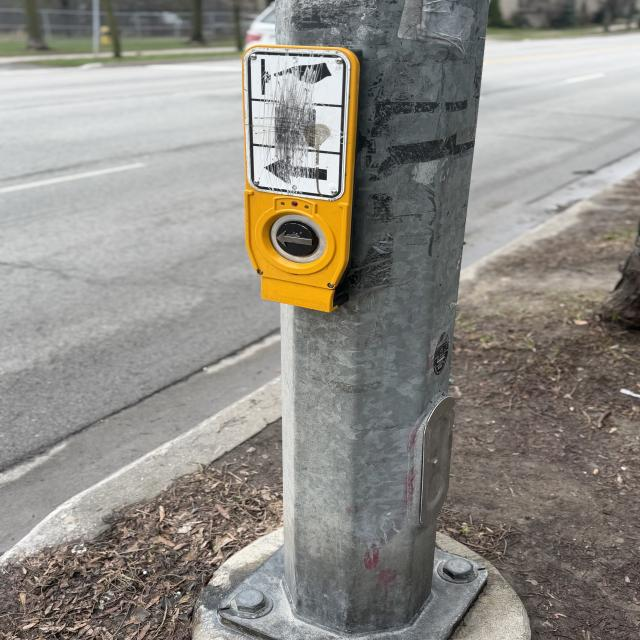Electrical Pole: (215, 2, 492, 640)
